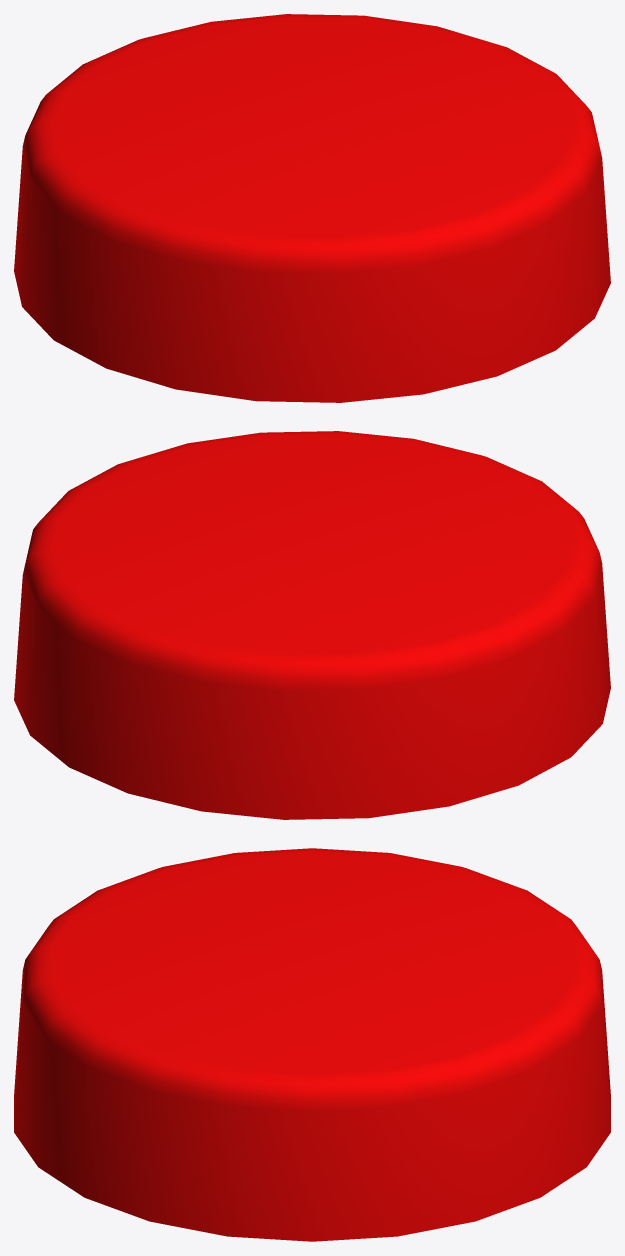
Rendered from ButtonTop.FBX.
3 views of the same model, one above another, from view 1: azimuth 30°, elevation 25°; view 2: azimuth 150°, elevation 25°; view 3: azimuth 270°, elevation 25° (orthographic).
Parts seen in each view (by area): view 1: ButtonTop; view 2: ButtonTop; view 3: ButtonTop.
Part boxes in pixels (x1,y1,x2,y2): ButtonTop: (14,14,610,402); ButtonTop: (14,431,610,819); ButtonTop: (14,848,610,1241).
Bounding box in the file's own units: 57.35 × 15.87 × 56.77.
